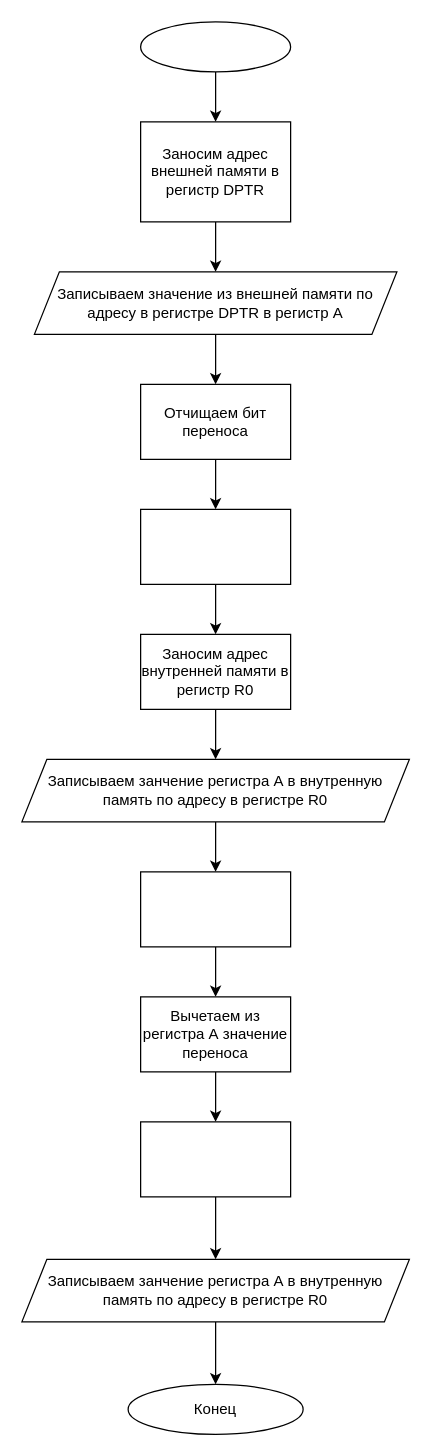
Image size: 431x1456. Some labels were removed from this diagram. Here are the shapes that lost their labels. From the top down, the centre of each, then its label:
At pixel 215 46: "Начало".
At pixel 215 546: "Вычетаем из регистра A число 0х5".
At pixel 215 909: "Заносим 0х0 в регистр А".
At pixel 215 1159: "Увеличиваем значение регистра R0".
